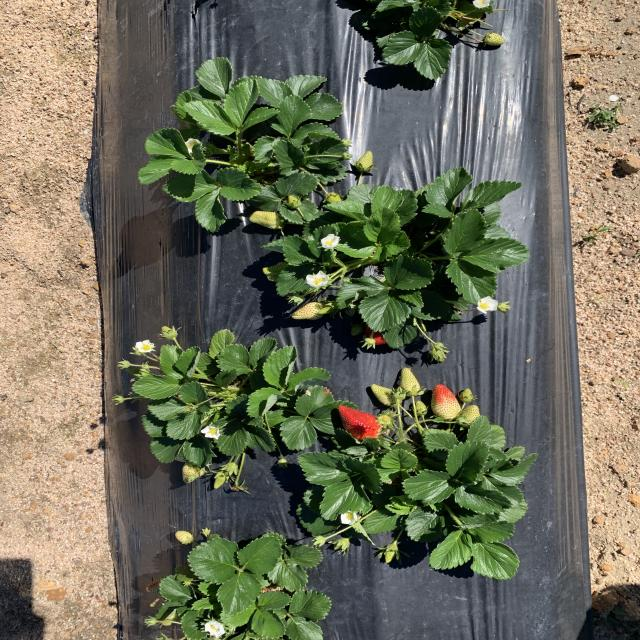unripe: (338, 404, 386, 440), (360, 318, 406, 349)
